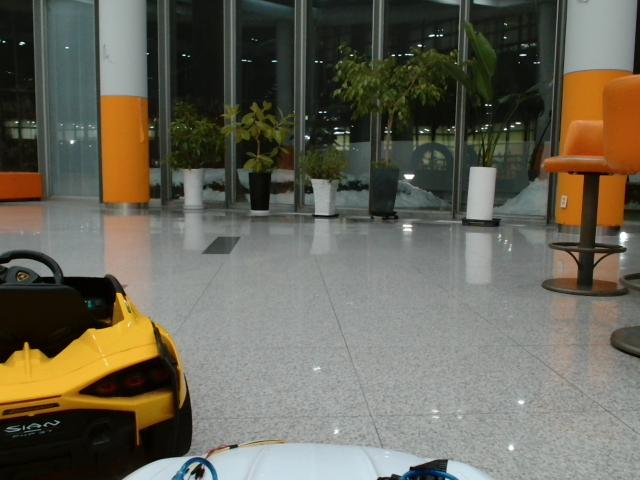car: (1, 250, 193, 480)
